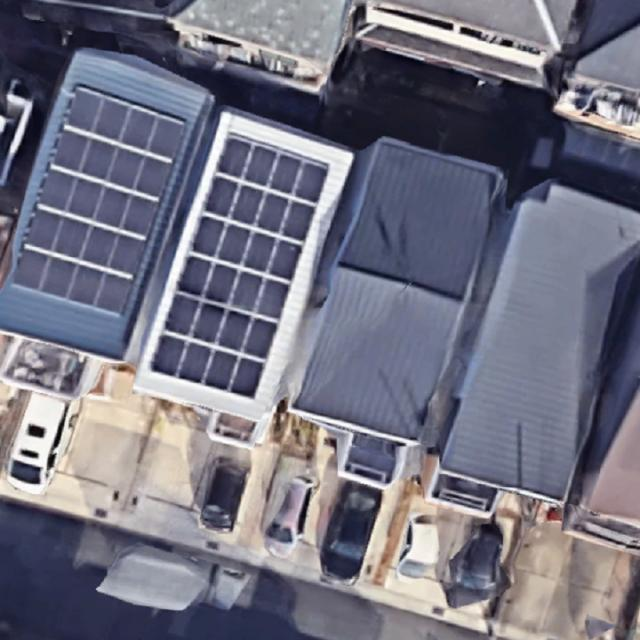Batiment: (136, 110, 353, 434), (1, 49, 214, 359), (293, 139, 503, 439), (441, 184, 639, 499)
